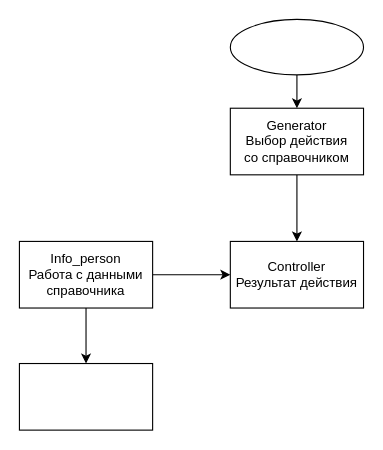
The diagram is 383 pixels wide and 450 high, and some of its shapes have lost their labels. The shapes that lost their labels are listed below. From the top down, each one's centre as x and y in pixels, then its label:
(x=296, y=46): Start_page начало игры
(x=85, y=396): UI Вывод информации на экран пользователя
